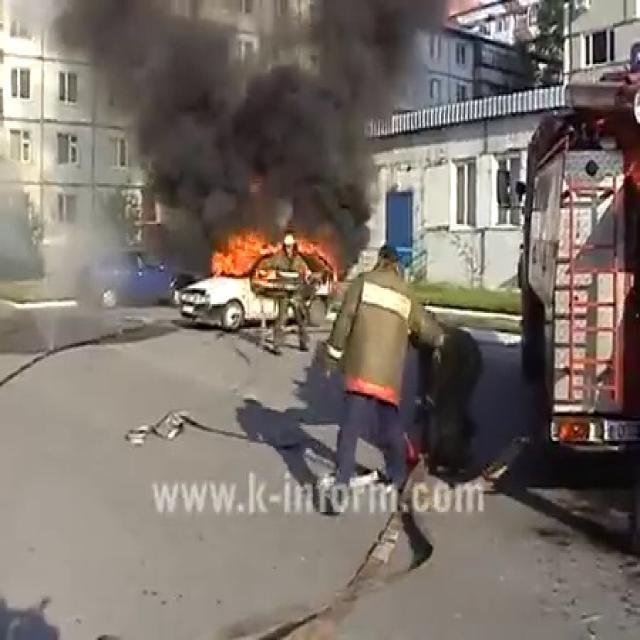Fire: (207, 220, 335, 286)
Smoke: (34, 0, 495, 236)
